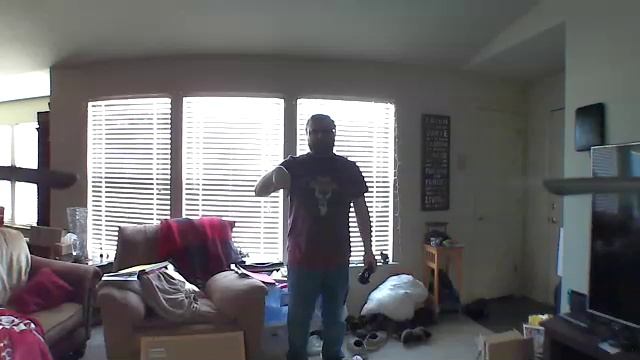down: (266, 154, 296, 204)
